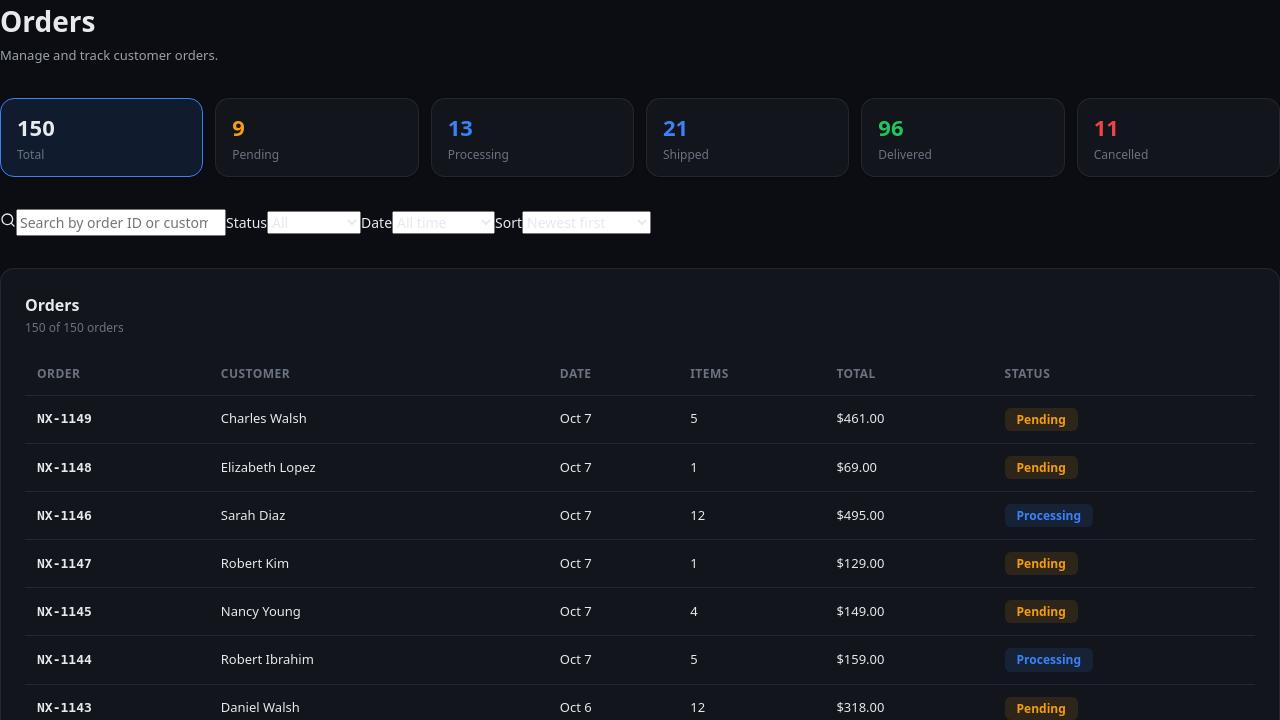
Orders page › shows an empty state when no order matches, and Clear filters restores the list
The width and height of the screenshot is (1280, 720).
In the search field named "search orders": (121, 222) [16,208,226,236], type "no such order or customer at all"
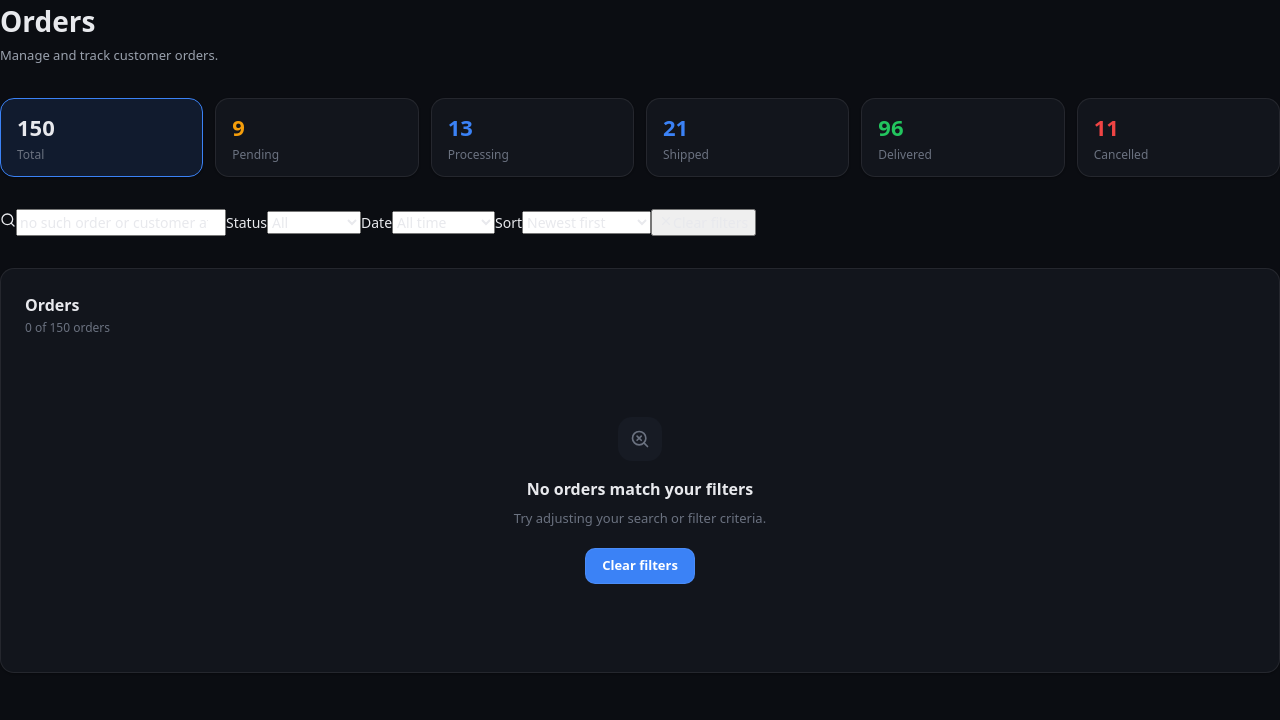
Result: the text "No orders match your filters" is shown at [527,476,753,500]
Click the button "Clear filters" next to "Sort": (704, 222) [651,208,756,236]
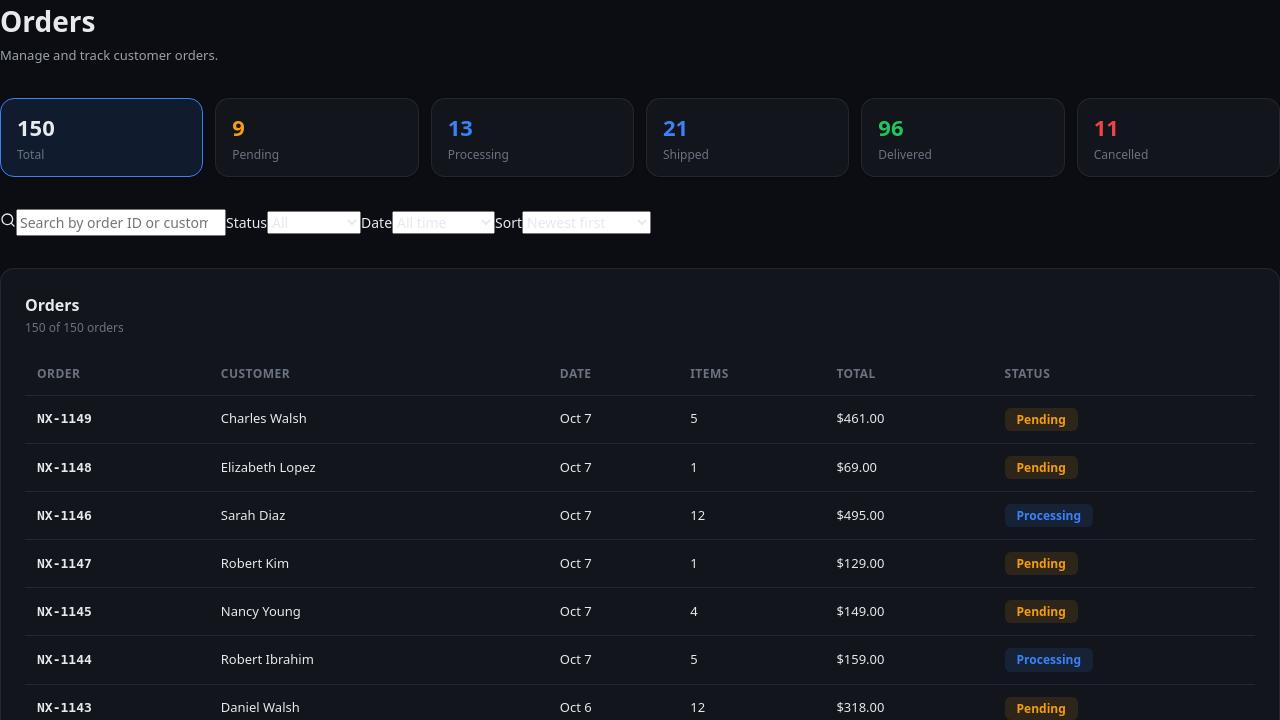
Result: the text "No orders match your filters" is gone
Result: the search field named "search orders" is empty at [16,208,226,236]
Result: the button with aria-label "view order" is shown at [37,409,92,429]
